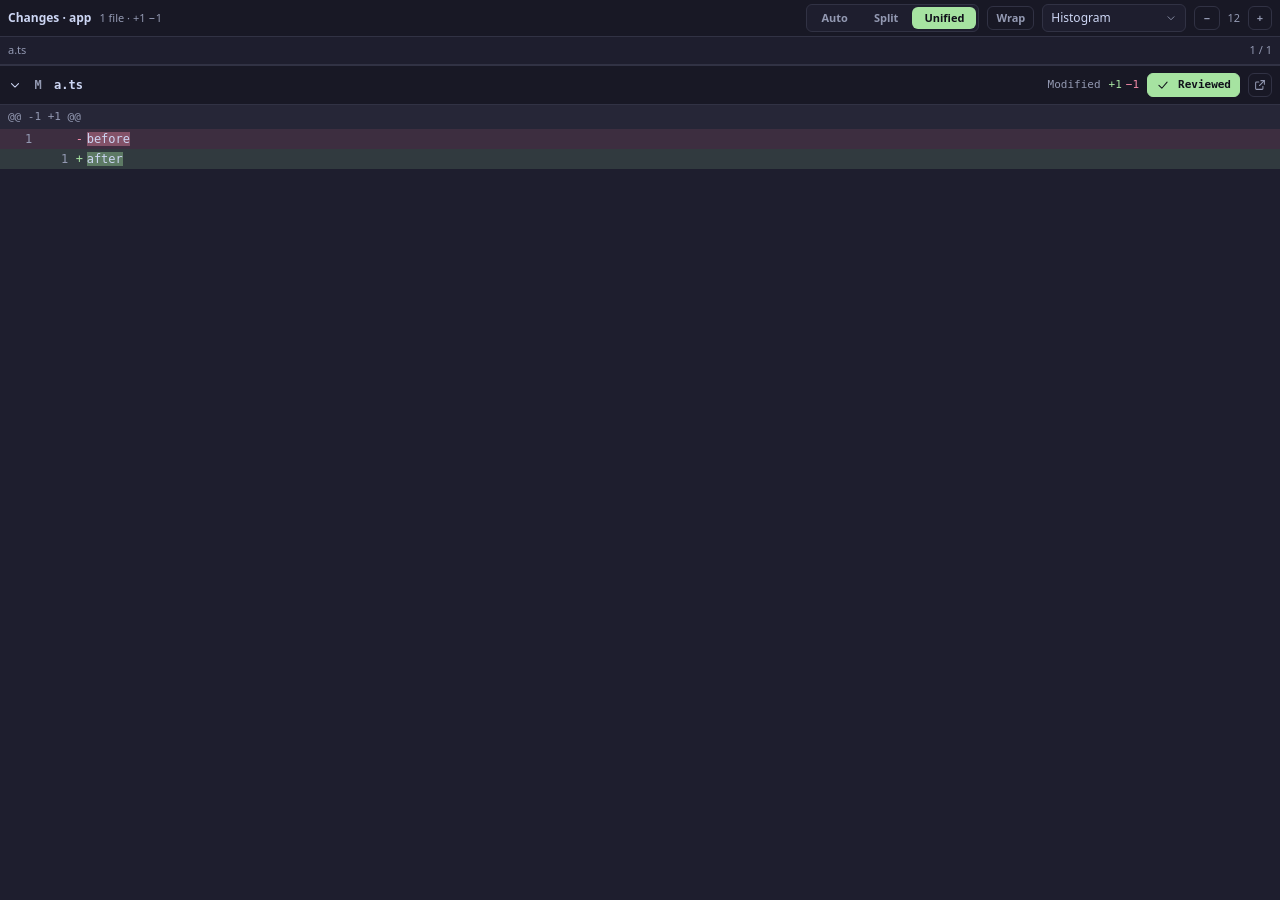
Test case: Reviewed after a long review › retries once, never in a loop
Expected: the list with test id "review-list" is shown, [0, 65, 1279, 169]
Click the button with test id "review-file-reviewed" at coordinates (1194, 85), box [1147, 73, 1240, 97]
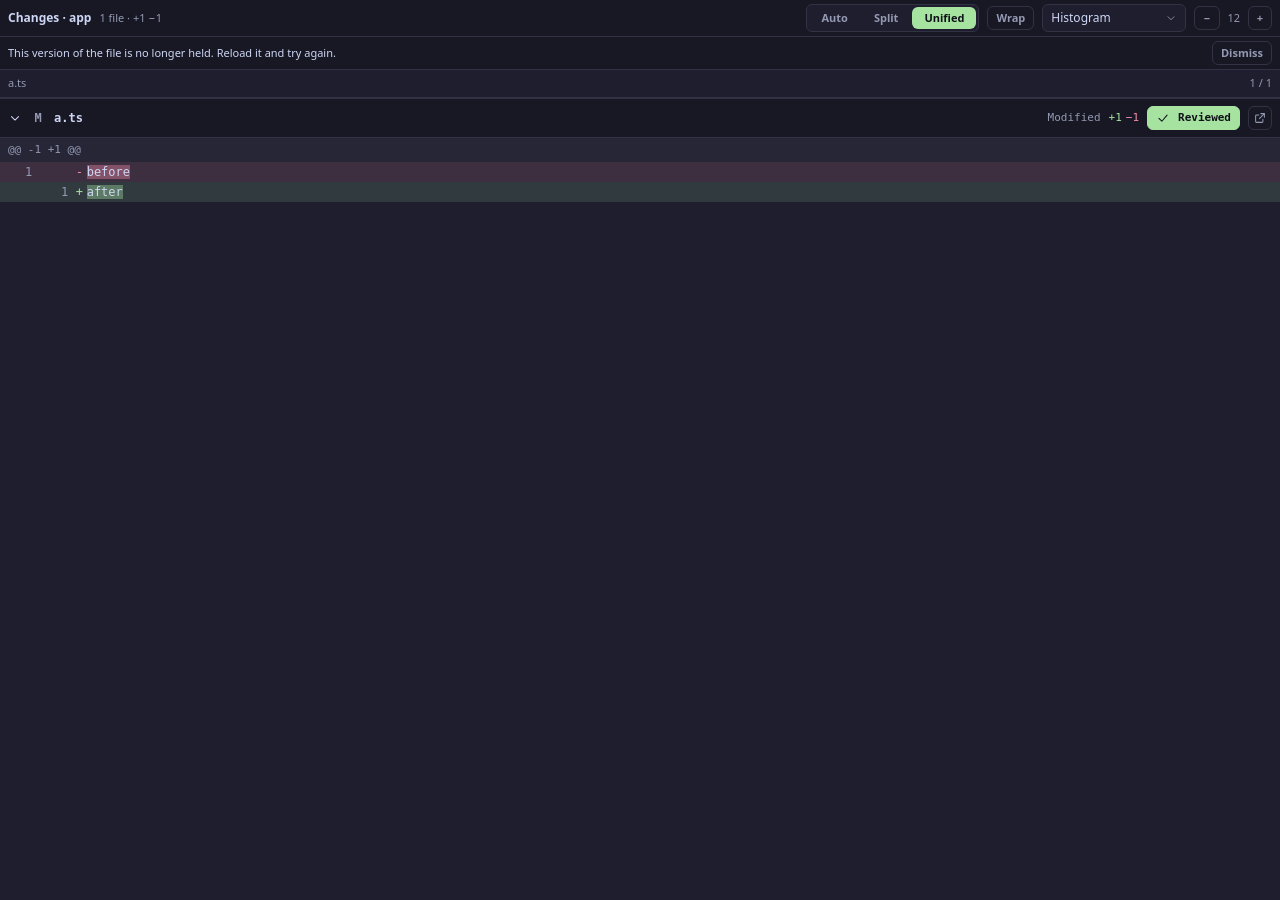
Now the message with test id "review-notice" shows "no longer held", box [8, 45, 336, 60]
